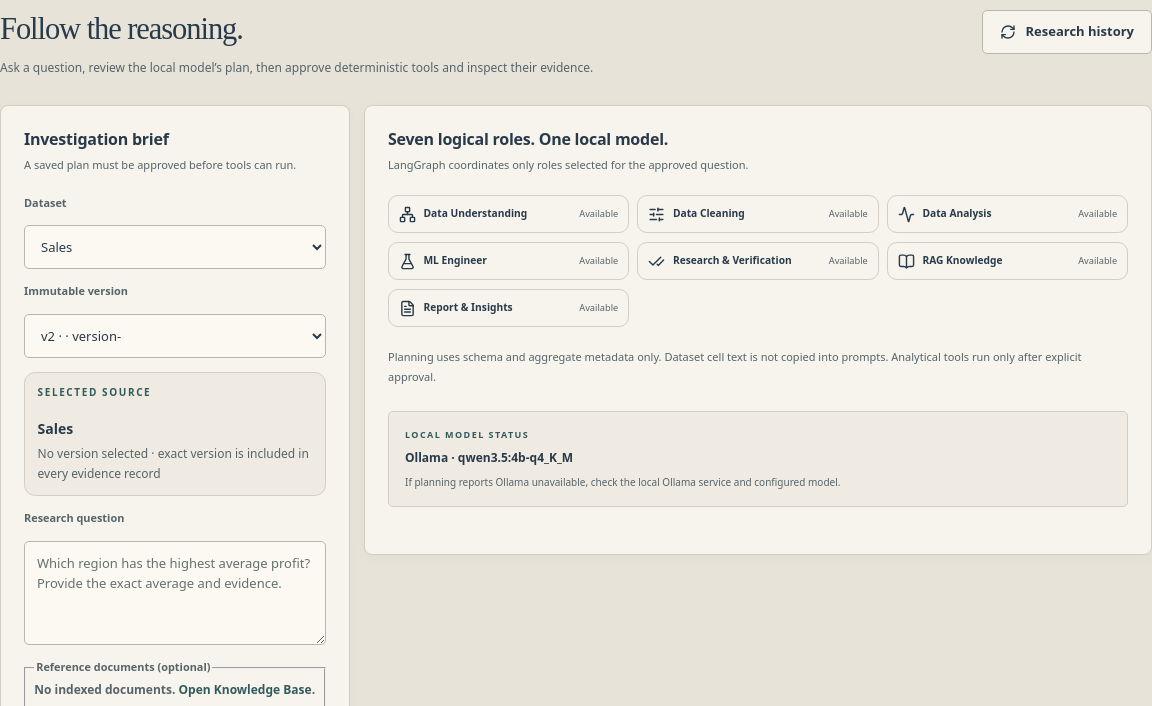
Test: persisted research comparisons › shows the saved answer, target status and both evidence references when reopened
The width and height of the screenshot is (1152, 706).
Click the button "Research history": (1067, 32) [982,10,1151,54]
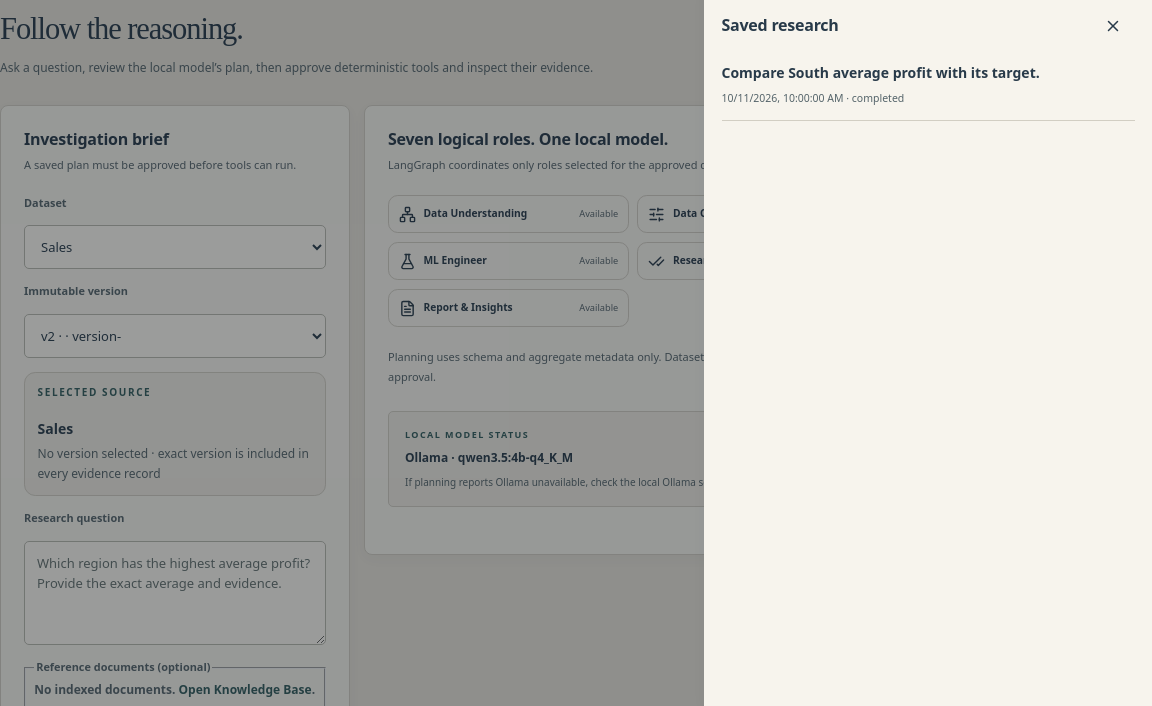
Click the button "Compare South average profit": (928, 84) [722,48,1134,122]
(page scrolled)
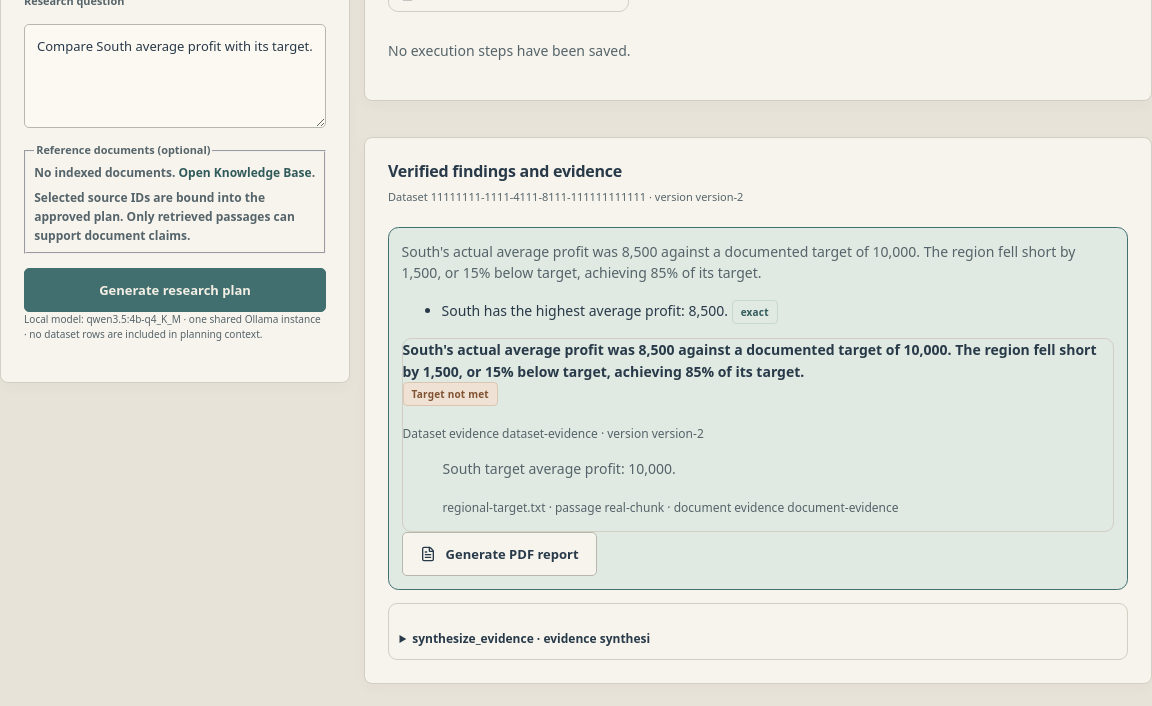
Expected: the button "Generate PDF report" is shown, [402,532,597,576]
Expected: the 1st text "South's actual average profit was 8,500 against a documented target of 10,000. The region fell short by 1,500, or 15% be" is shown, [402,242,1076,282]
Expected: the text "Target not met" is shown, [403,382,498,406]
